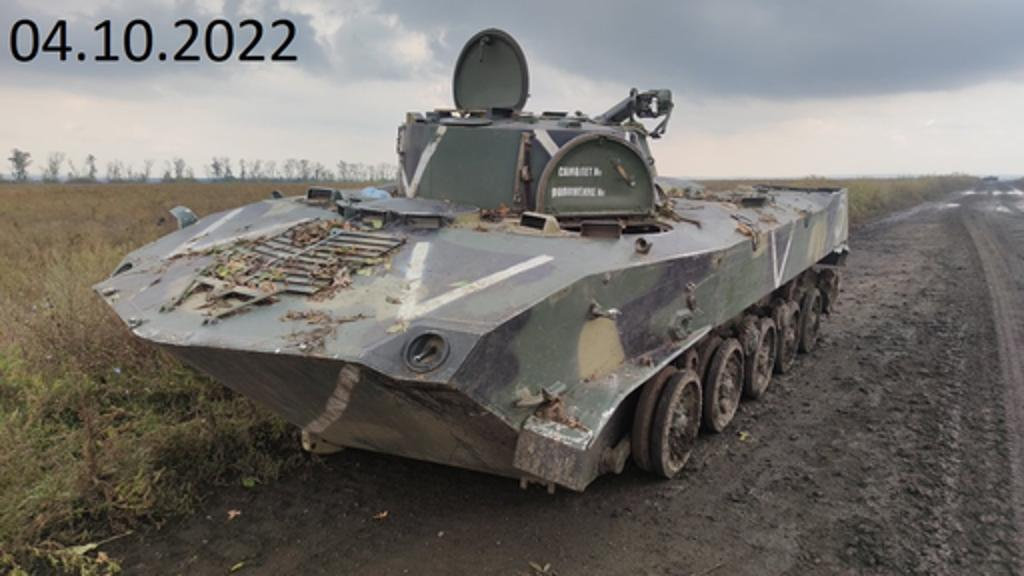APC-IFV: (88, 60, 852, 494)
